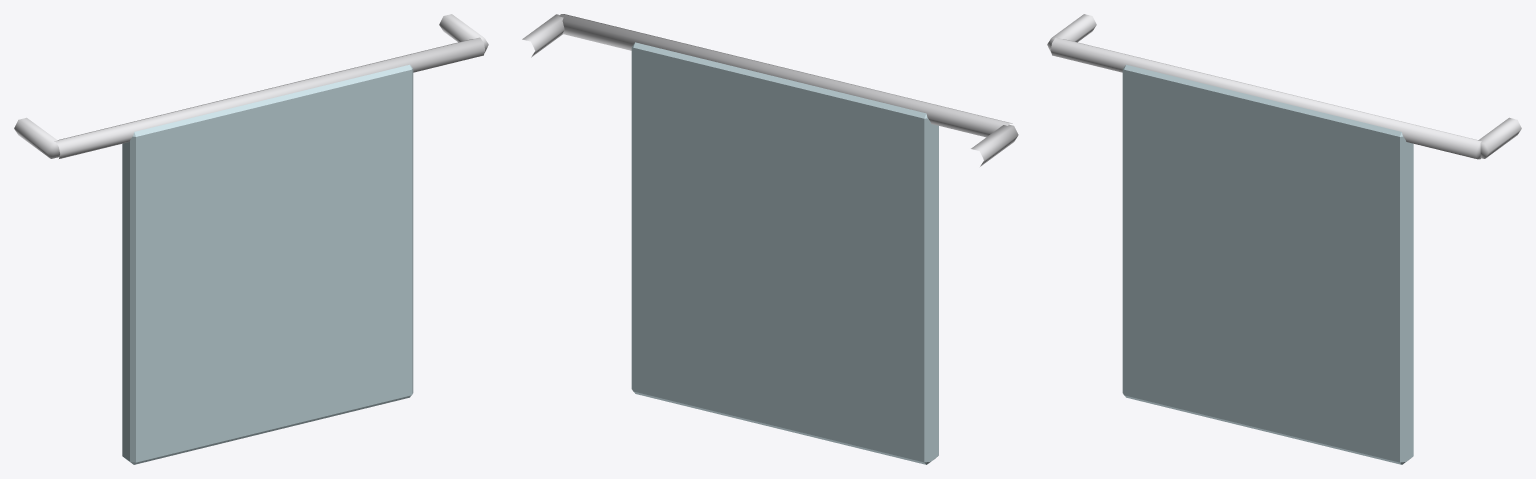
Rendered from towel_rail.glb.
The picture shows the model from 3 angles, left to right: view 1: azimuth 30°, elevation 25°; view 2: azimuth 150°, elevation 25°; view 3: azimuth 330°, elevation 25°; orthographic projection. The views are drawn at different scales.
Parts seen in each view (by area): view 1: towel_rail; view 2: towel_rail; view 3: towel_rail.
Boxes of the visible parts, left/top/right/bottom form: towel_rail: left=14, top=14, right=488, bottom=464; towel_rail: left=522, top=14, right=1018, bottom=464; towel_rail: left=1047, top=14, right=1521, bottom=464.
Size of the model in its own units: 0.624 by 0.457 by 0.095.
